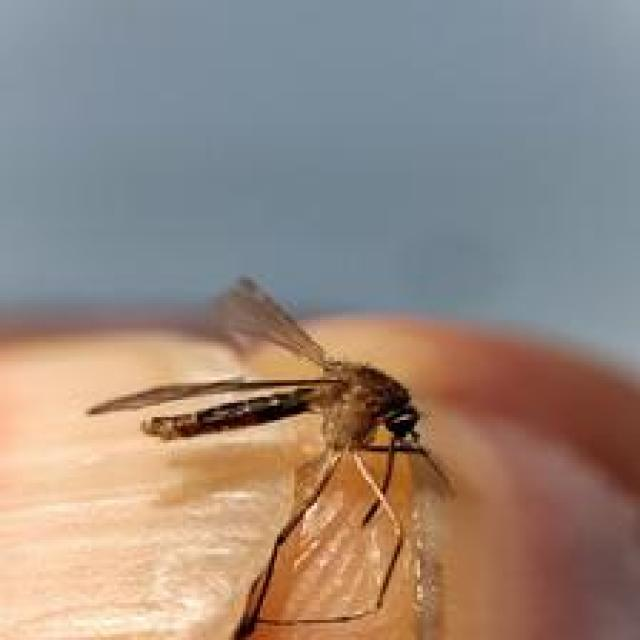Culex: (84, 271, 459, 640)
